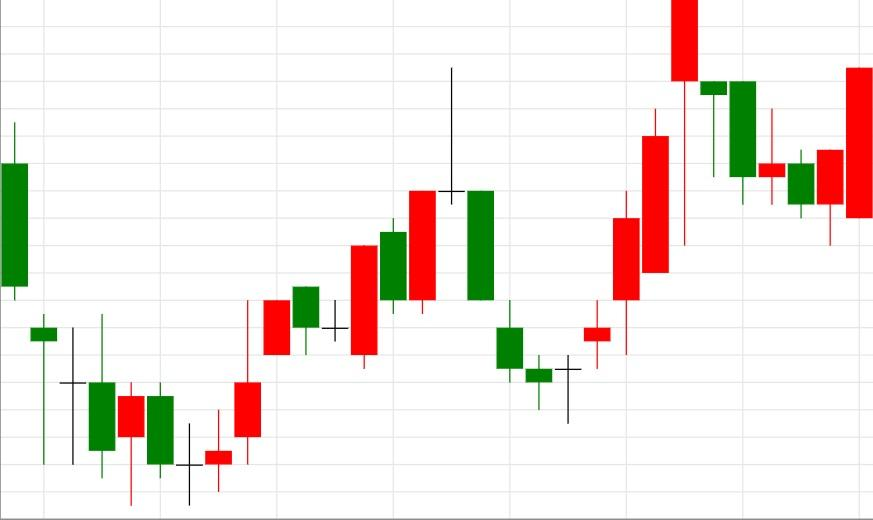evening_star_fall: (175, 67, 495, 506)
hanging_man_fall: (525, 0, 699, 424)
morning_star_rise: (0, 123, 233, 506)
